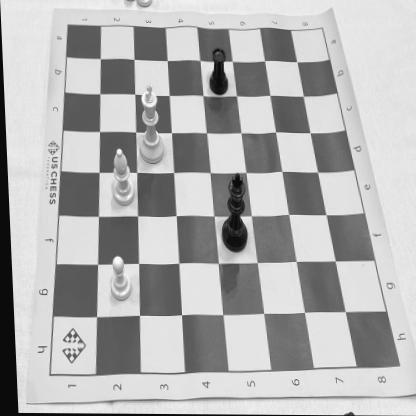black-king: (216, 170, 249, 256)
black-rook: (206, 46, 230, 98)
white-bishop: (106, 146, 134, 206)
white-king: (136, 80, 166, 166)
white-pawn: (104, 254, 130, 304)
